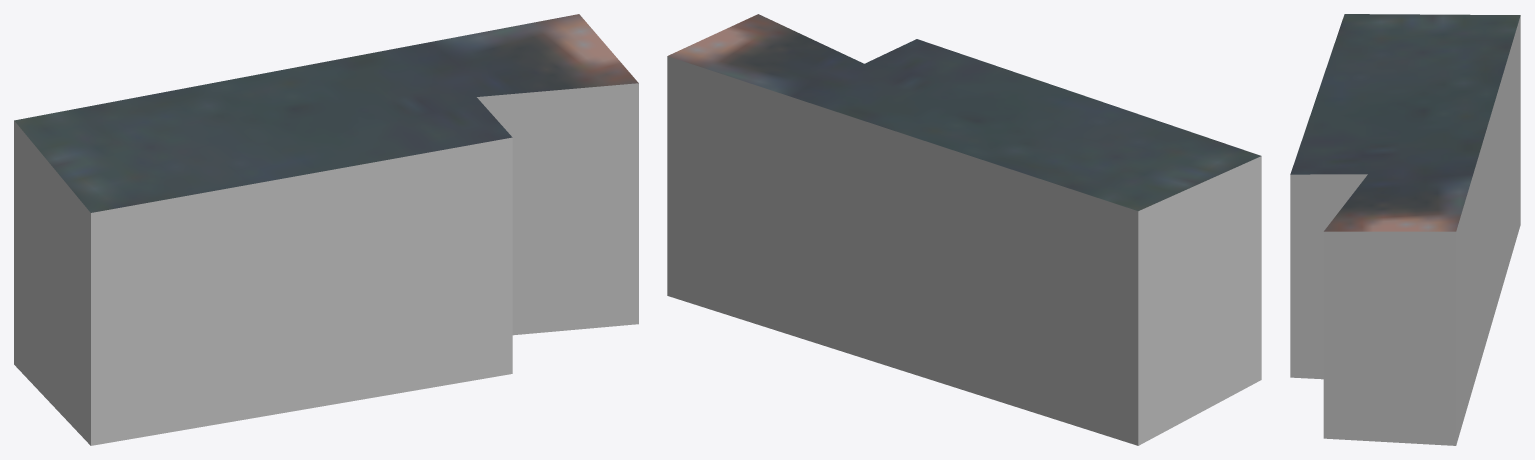
Rendered from DEBW_0010007Tx4L.gltf.
3 renders of one model, left to right at view 1: azimuth 30°, elevation 25°; view 2: azimuth 150°, elevation 25°; view 3: azimuth 270°, elevation 25°, orthographic. The views are drawn at different scales.
Parts seen in each view (by area): view 1: Z_UP; view 2: Z_UP; view 3: Z_UP.
Part boxes in pixels (box(x1,y1,x2,y2)): Z_UP: box(14, 14, 638, 445); Z_UP: box(667, 14, 1261, 445); Z_UP: box(1290, 14, 1520, 445).
Size of the model in its own units: 10.72 by 4.62 by 4.5.
Materials: 2 (1 with a texture image).
